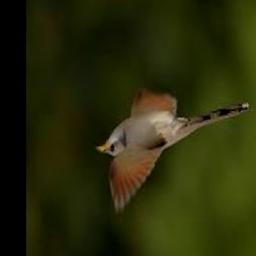Cuckoo: (95, 94, 249, 212)
